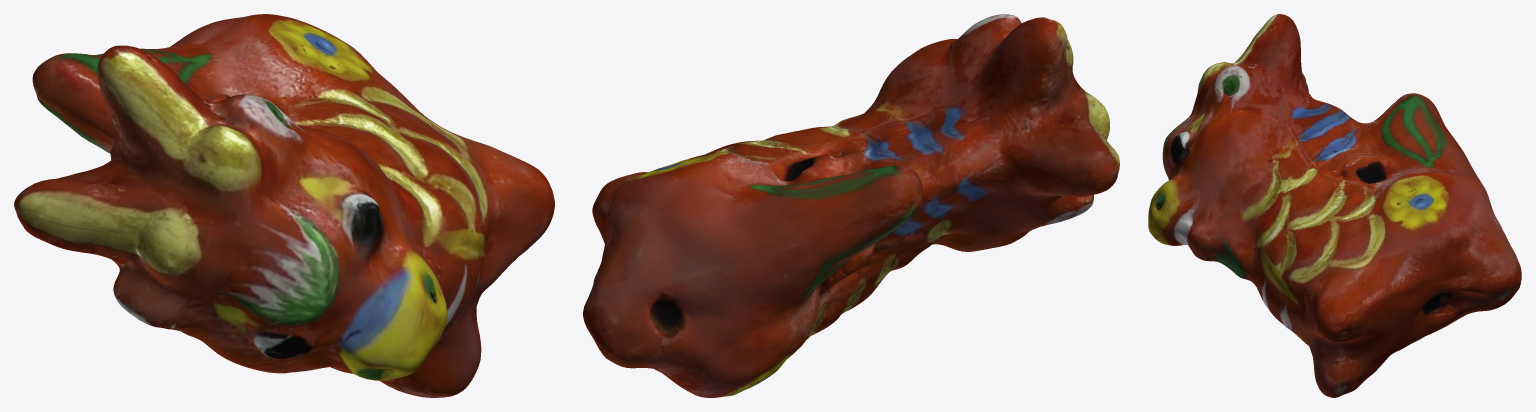
3 views of the same model, side by side, from view 1: azimuth 30°, elevation 25°; view 2: azimuth 150°, elevation 25°; view 3: azimuth 270°, elevation 25° (orthographic). The views are drawn at different scales.
Size of the model in its own units: 0.4559 by 0.359 by 0.4417.
1 material, 1 textured.
